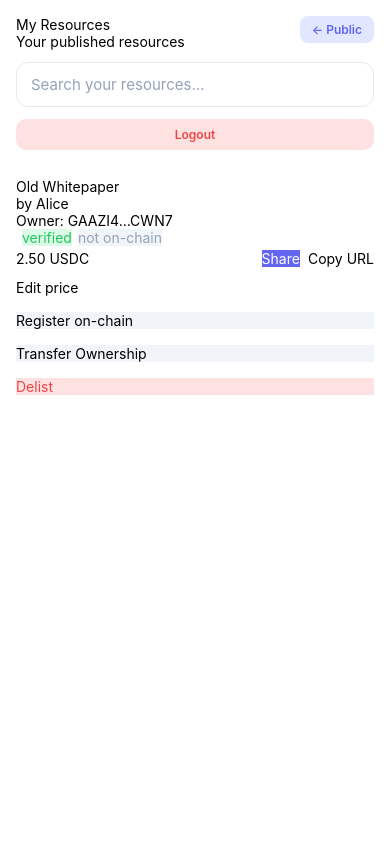
Test case: PublisherResourcesScreen - Delist › delists the resource and removes it from the list
Click the button "Delist": (35, 386) [16,378,374,395]
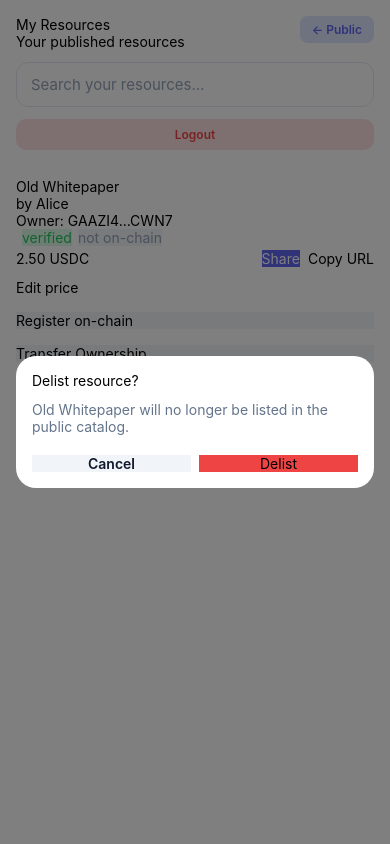
Click the button with aria-label "Confirm delist": (278, 464) [199,455,358,472]
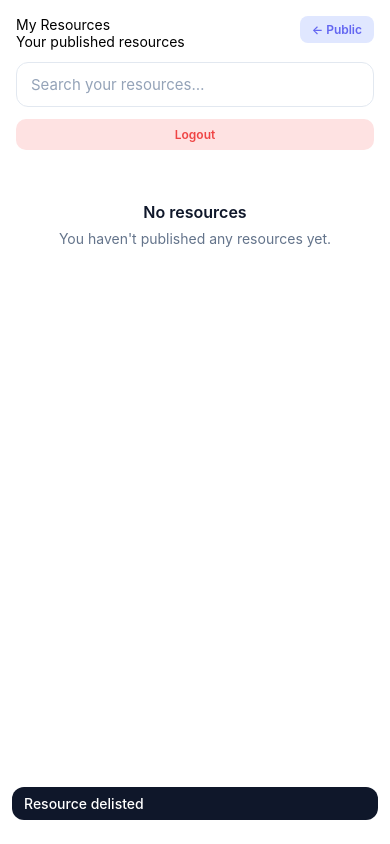
Check: the text "Resource delisted" is shown, box [24,795,144,812]
Check: the element with test id "delist-modal" is gone
Check: the text "Old Whitepaper" is gone
